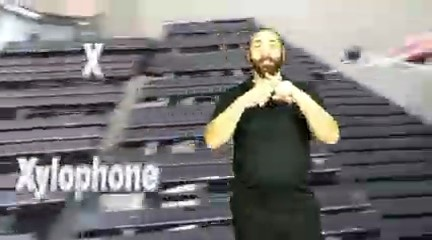X: (233, 63, 301, 110)
